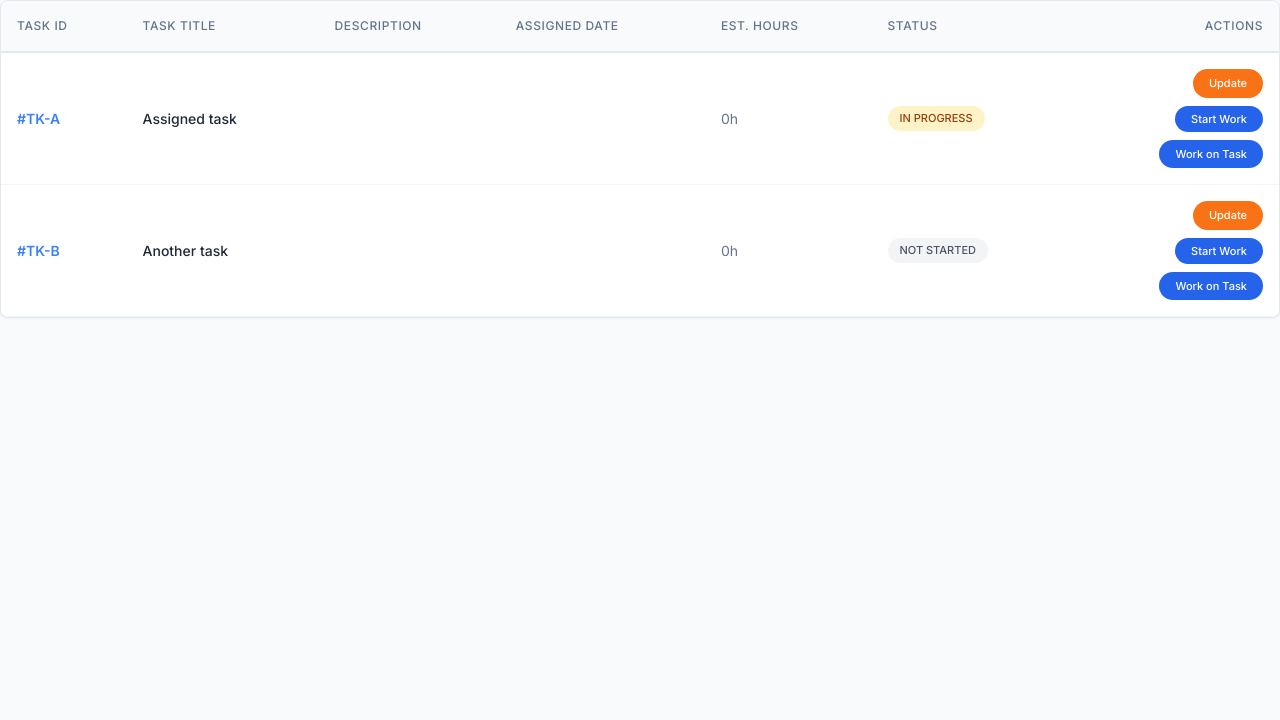
Test: Employee task list › starts a timer directly from an assigned task and prevents a second start
Click the button "Start Work" in the row of "TK-A". click: click(1219, 118)
box: [1175,106,1263,132]
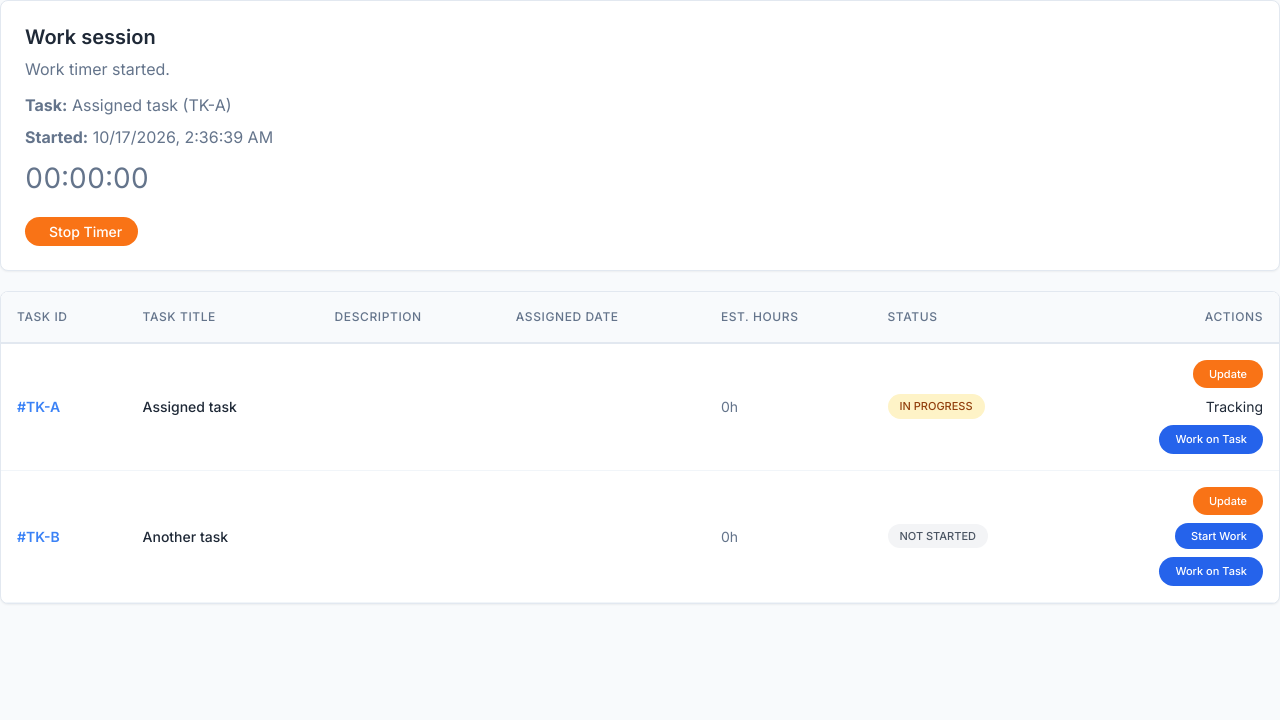
Now the text "Tracking" is shown, box [1206,396,1263,417]
Now the button "Start Work" is disabled, box [1175,523,1263,549]
